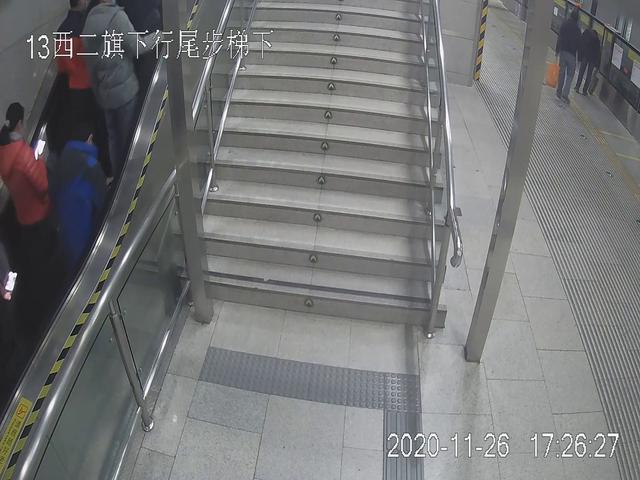person: (76, 1, 144, 186), (46, 119, 112, 268), (5, 96, 54, 264), (548, 3, 589, 106)
